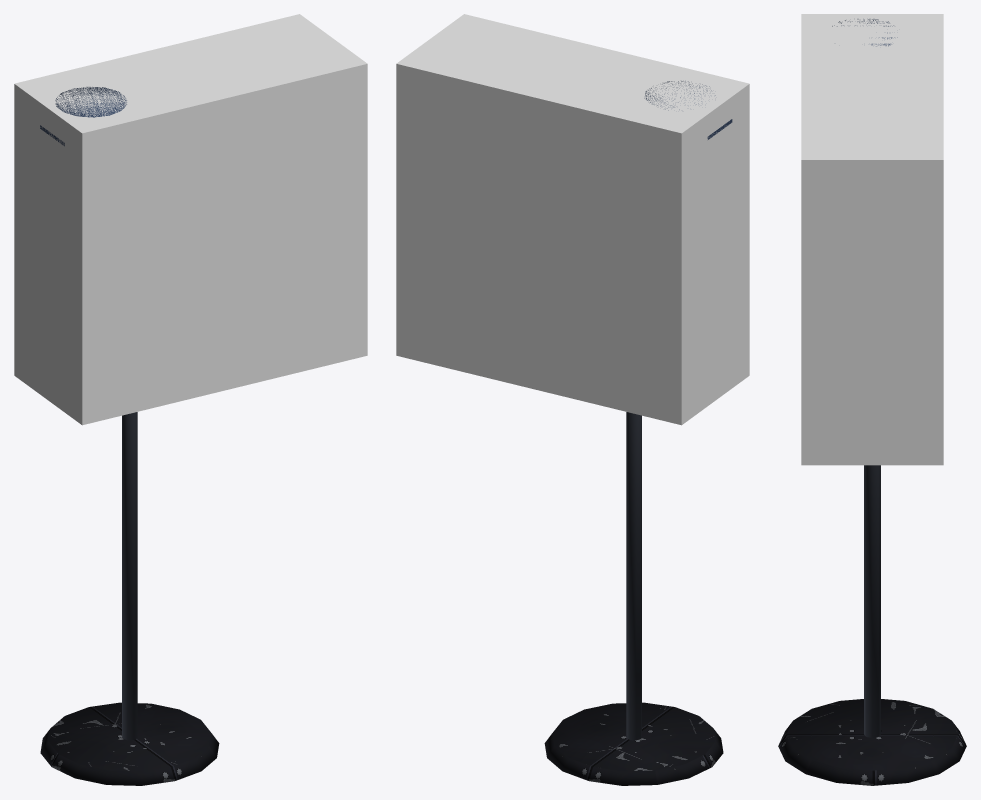
The model's file is Deco_CoatRack.001.gltf.
3 views of the same model, side by side, from view 1: azimuth 30°, elevation 25°; view 2: azimuth 150°, elevation 25°; view 3: azimuth 270°, elevation 25° (orthographic). The views are drawn at different scales.
Parts seen in each view (by area): view 1: Deco_CoatRack.001_COL, Deco_CoatRack.001; view 2: Deco_CoatRack.001_COL, Deco_CoatRack.001; view 3: Deco_CoatRack.001_COL, Deco_CoatRack.001.
Part boxes in pixels (<box>): Deco_CoatRack.001_COL: <box>14,14,367,425</box>; Deco_CoatRack.001: <box>40,87,219,785</box>; Deco_CoatRack.001_COL: <box>396,14,749,425</box>; Deco_CoatRack.001: <box>544,81,732,785</box>; Deco_CoatRack.001_COL: <box>801,14,943,465</box>; Deco_CoatRack.001: <box>778,19,966,785</box>.
Bounding box in the file's own units: 0.8042 × 1.78 × 0.44.
Materials: 5 (1 with a texture image).
